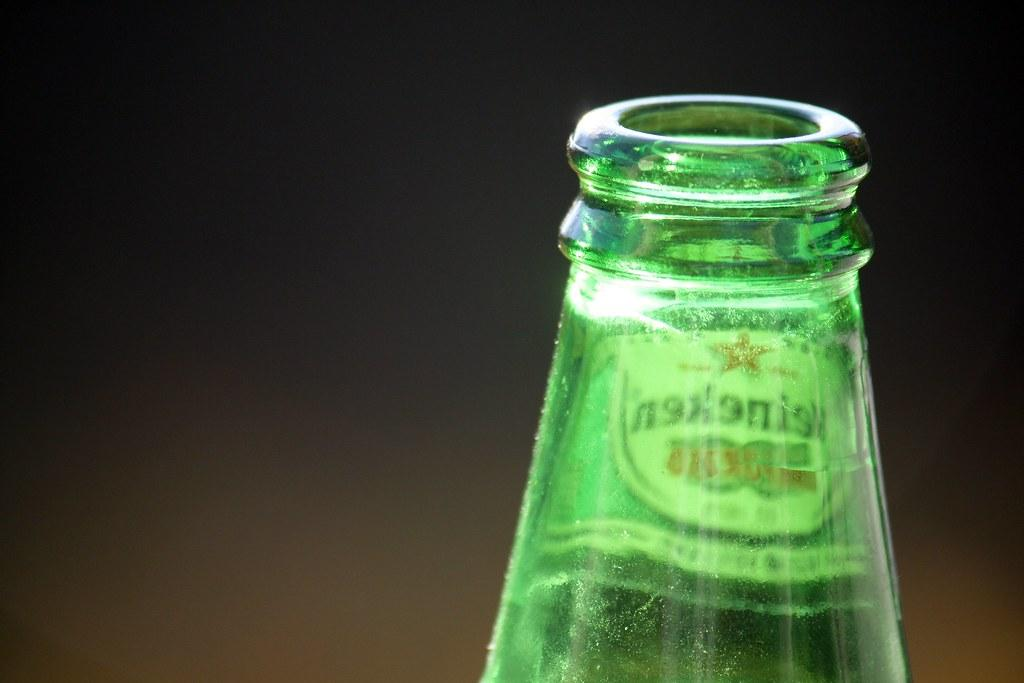bottle: (478, 93, 915, 682)
